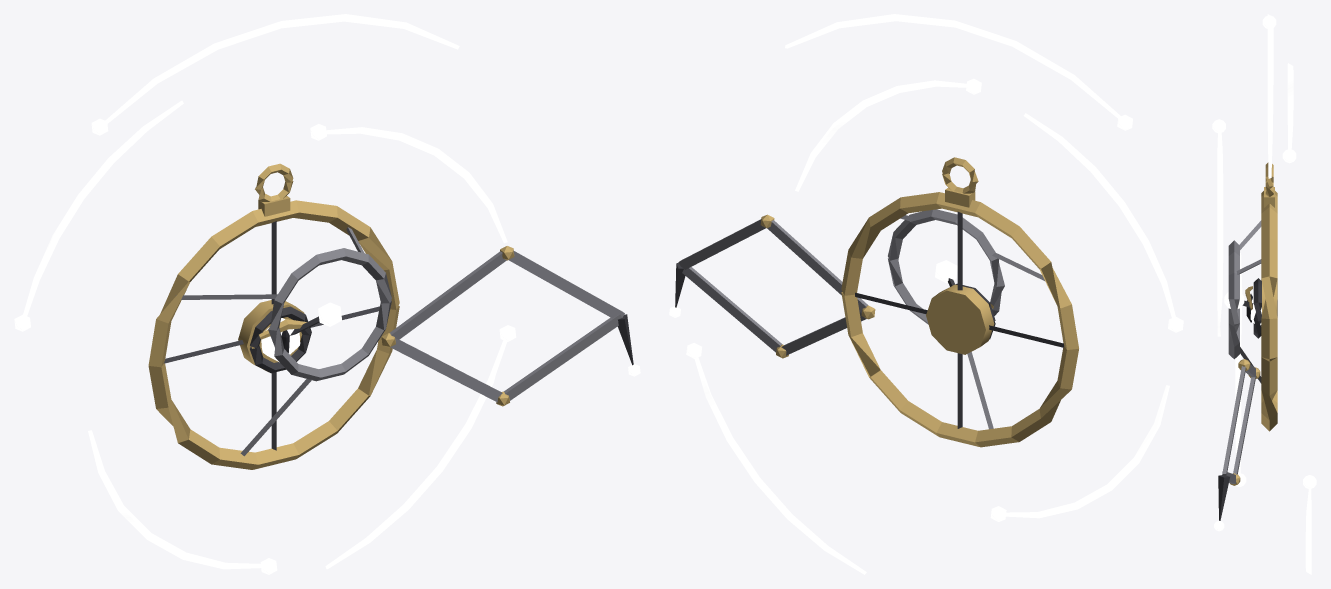
File: astrolabe-chain-plotter.glb
3 views of the same model, side by side, from view 1: azimuth 30°, elevation 25°; view 2: azimuth 150°, elevation 25°; view 3: azimuth 270°, elevation 25° (orthographic). The views are drawn at different scales.
Visible parts, largest first — view 1: astrolabe_chain_plotter; view 2: astrolabe_chain_plotter; view 3: astrolabe_chain_plotter.
Boxes of the visible parts, x1,y1,x2,y2 form: astrolabe_chain_plotter: (14,14,640,574); astrolabe_chain_plotter: (669,14,1183,574); astrolabe_chain_plotter: (1212,14,1316,574).
Size of the model in its own units: 1.12 by 1.07 by 0.2027.
